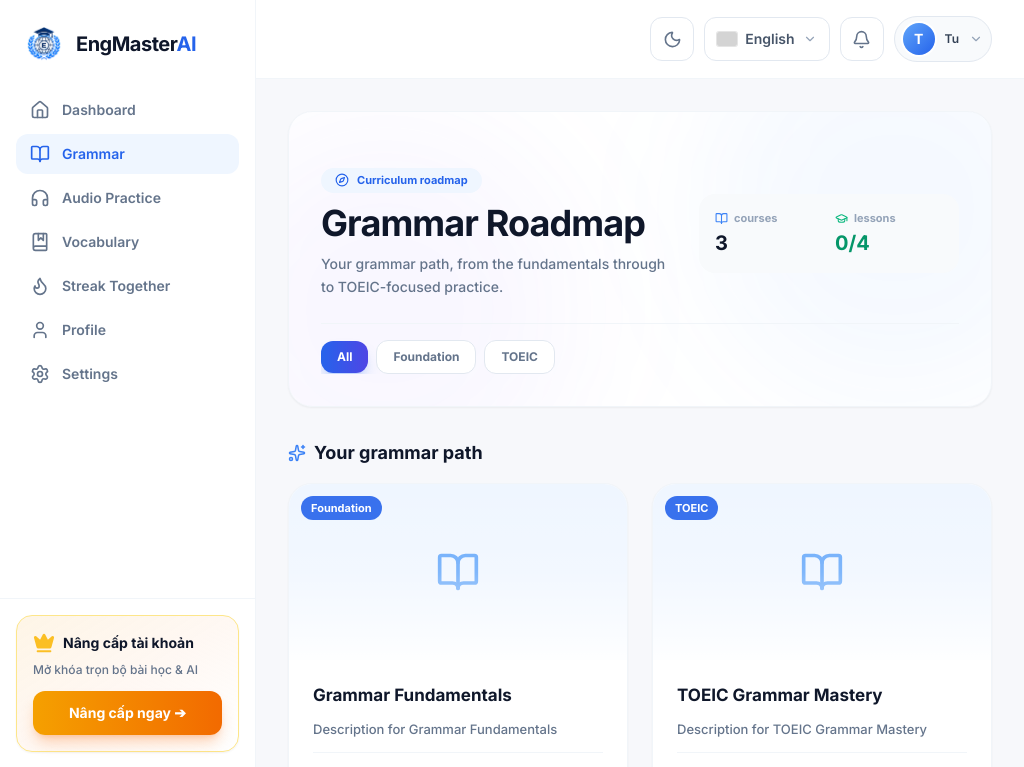
Test: GrammarRoadmapPage — collection filter › filters the grid to the selected collection
expect the heading "Grammar Fundamentals" is shown: met, box [313,685,512,705]
Click the button "TOEIC". click: (520, 357)
box: [484,340,555,374]
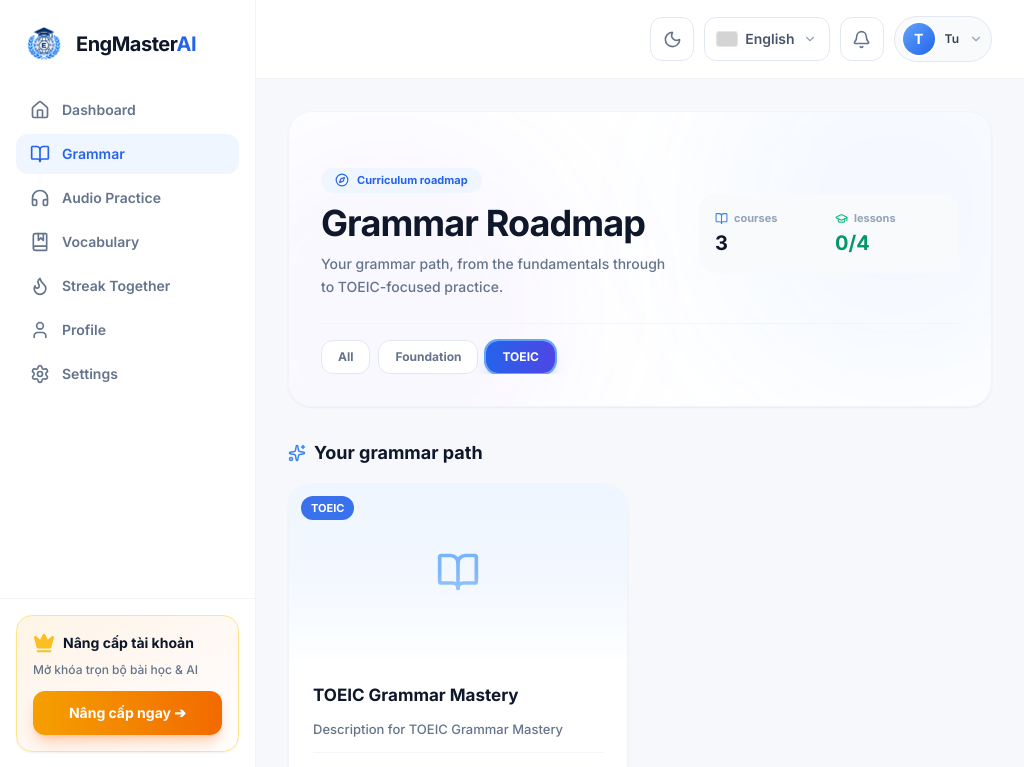
expect the heading "TOEIC Grammar Mastery" is shown: met, box [313,685,519,705]
expect the link "Grammar Fundamentals" is gone: met
